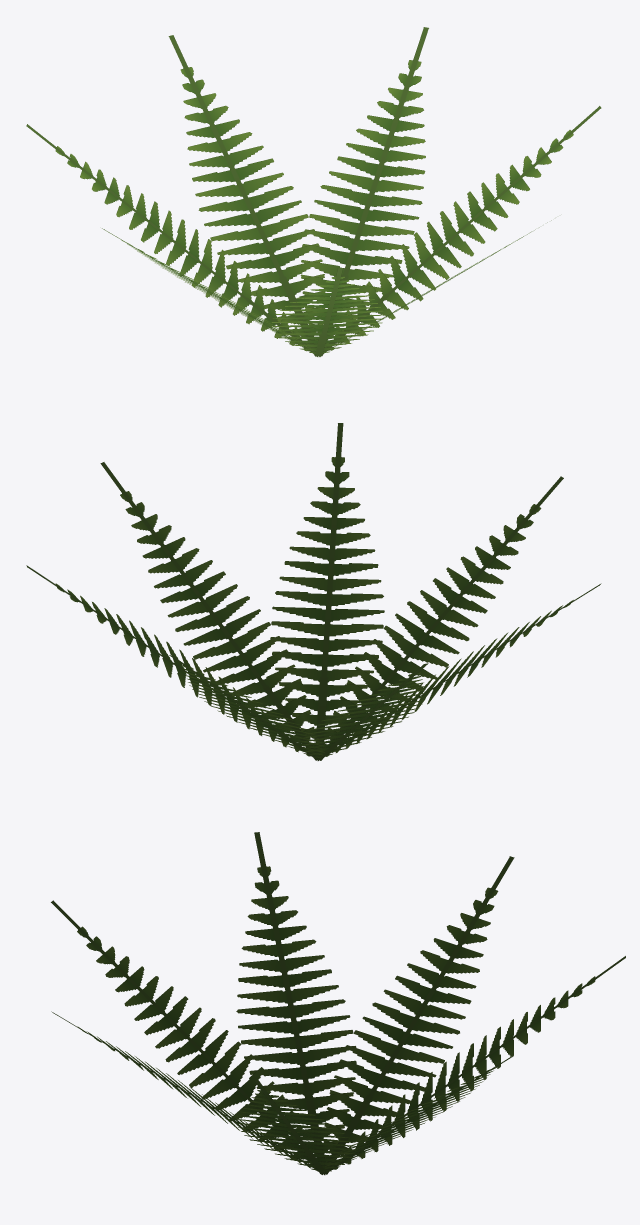
File: fern.glb
3 views of the same model, one above another, from view 1: azimuth 30°, elevation 25°; view 2: azimuth 150°, elevation 25°; view 3: azimuth 270°, elevation 25° (orthographic). The views are drawn at different scales.
Visible parts, largest first — view 1: fern; view 2: fern; view 3: fern.
Boxes of the visible parts, x1,y1,x2,y2 form: fern: (26,27,601,356); fern: (26,423,601,760); fern: (51,832,625,1175).
Bounding box in the file's own units: 1.79 × 0.6838 × 1.75.
1 material, 1 textured.
